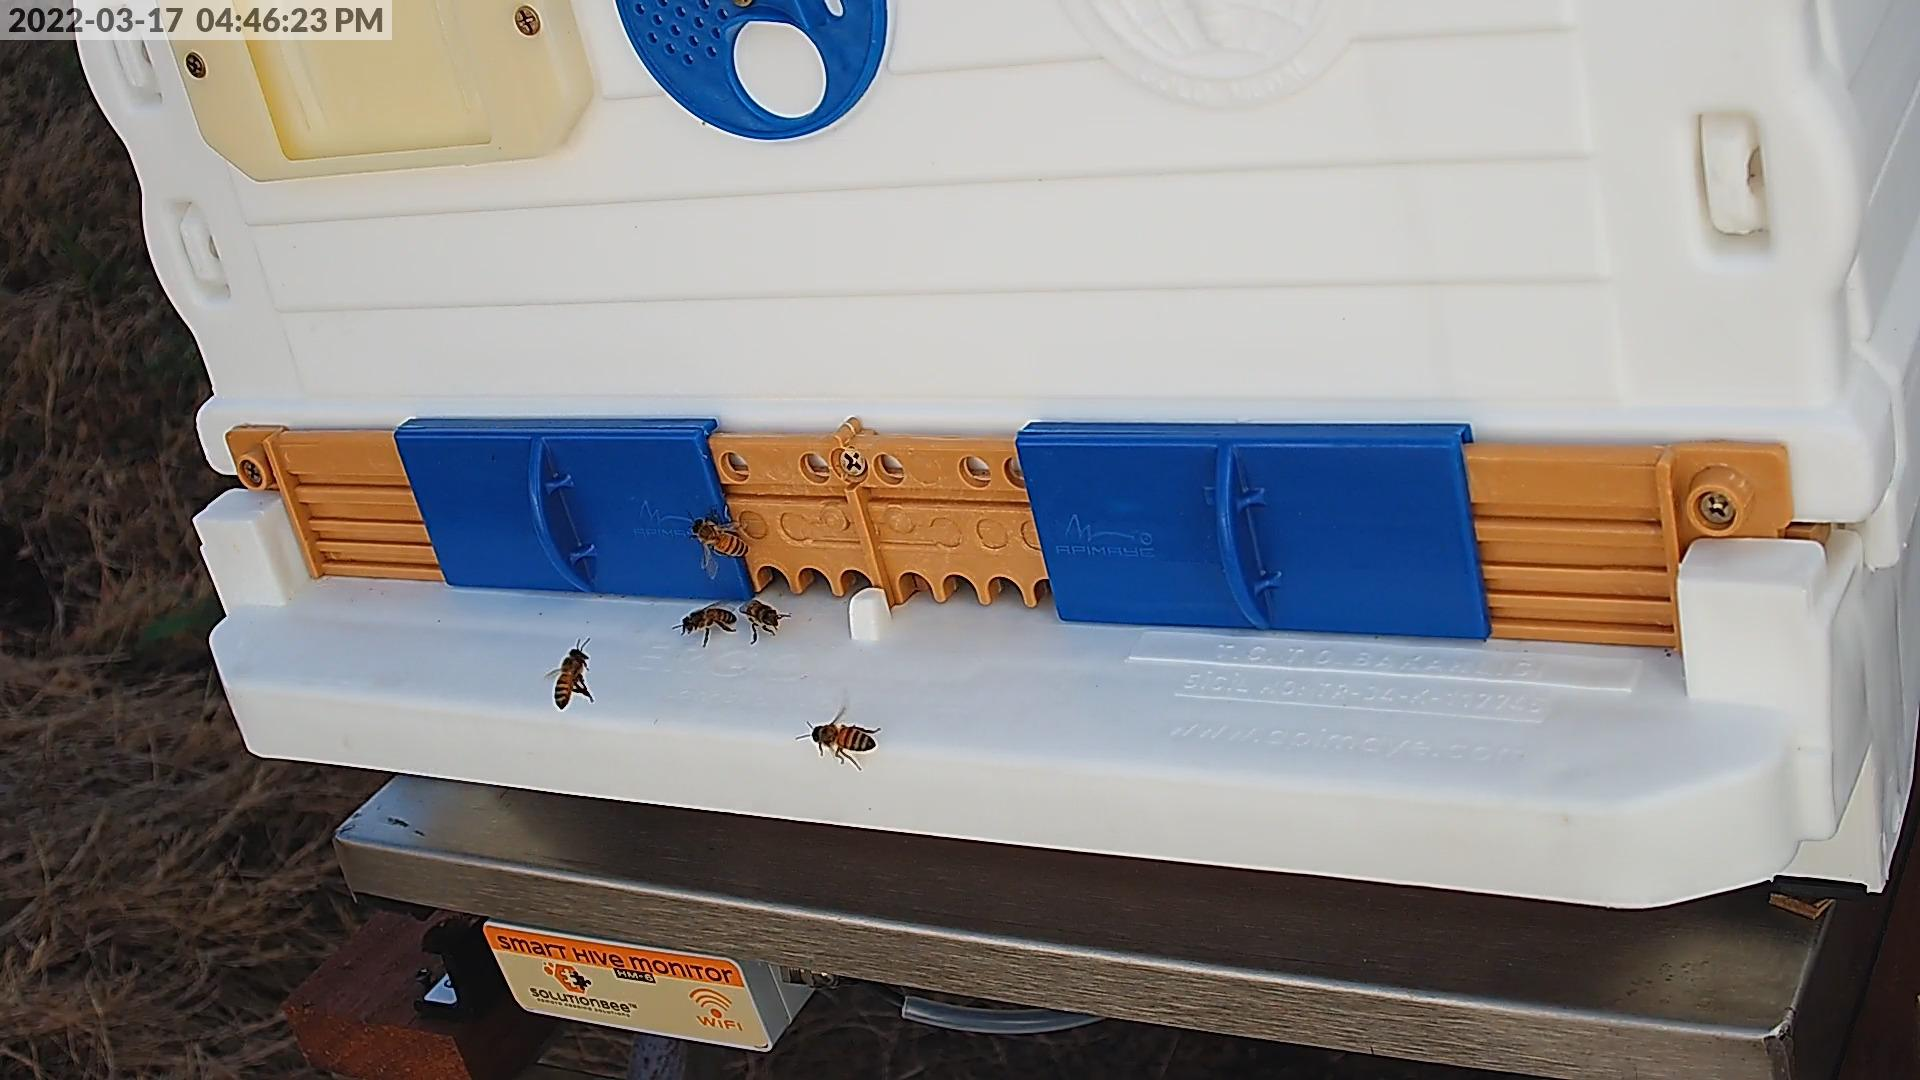bee: (692, 518, 750, 558), (554, 650, 587, 709), (814, 725, 877, 754), (686, 607, 737, 629), (742, 599, 777, 630)
